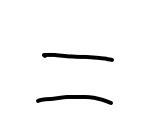eqv: (36, 53, 115, 106)
